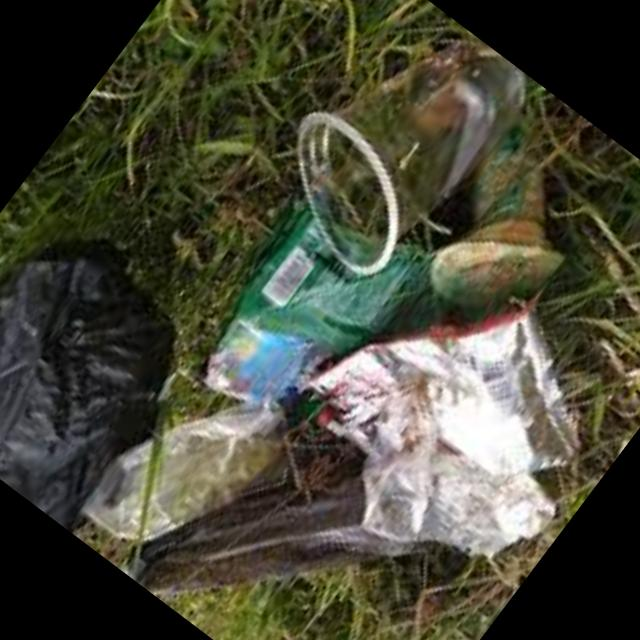GelasPlastik: (246, 0, 557, 312), (397, 112, 623, 352)
